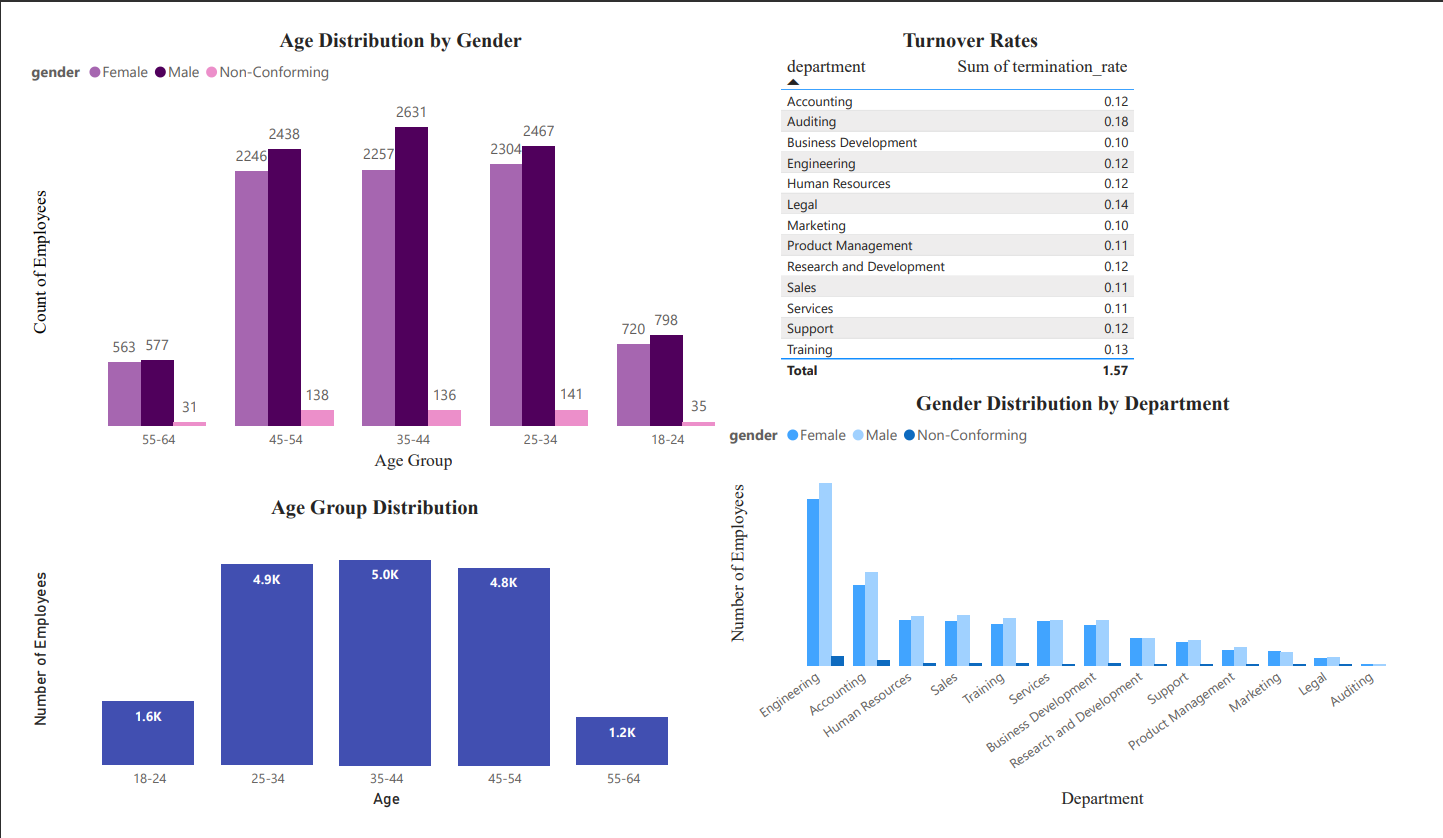

The page's visual inventory and layout, read from the dashboard file:
{"tool":"powerbi","page":{"name":"Page 2","canvas":[1280,720],"ordinal":1},"visuals":[{"type":"columnChart","title":"Age Group Distribution","fields":{"Category":["age_group.age_group"],"Y":["Sum(age_group.count)"]},"box":[0,429.1,640.2,291.1],"z":0},{"type":"clusteredColumnChart","title":"Age Distribution by Gender","fields":{"Category":["age_group_gender.age_group"],"Y":["Sum(age_group_gender.count)"],"Series":["age_group_gender.gender"]},"box":[0,0,687.2,410.1],"z":1000},{"type":"tableEx","title":"Turnover Rates","fields":{"Values":["turnover_rates.department","Sum(turnover_rates.termination_rate)"]},"box":[687.2,0,358.1,333.1],"z":2000},{"type":"clusteredColumnChart","title":"Gender Distribution by Department","fields":{"Category":["gender_department.department"],"Y":["Sum(gender_department.count)"],"Series":["gender_department.gender"]},"box":[640.2,333.1,640.2,387.1],"z":2001}]}

Visuals, with their boxes on the page's 1280x720 design canvas (x1, y1, x2, y2). These are canvas units, not pixel positions in the 1443x838 screenshot, which may show the page scaled, cropped or inside an application window:
"Age Group Distribution" columnChart: l=0, t=429, r=640, b=720
"Age Distribution by Gender" clusteredColumnChart: l=0, t=0, r=687, b=410
"Turnover Rates" tableEx: l=687, t=0, r=1045, b=333
"Gender Distribution by Department" clusteredColumnChart: l=640, t=333, r=1280, b=720
